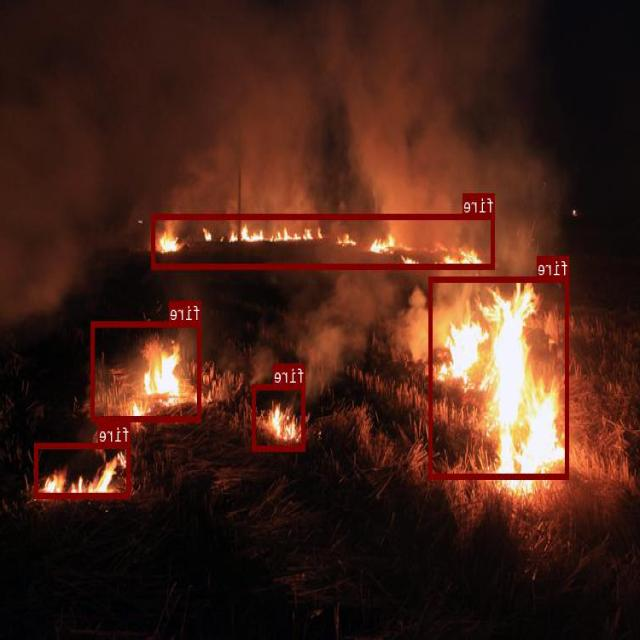fire: (429, 277, 570, 478), (152, 214, 496, 268), (92, 321, 202, 420), (35, 442, 131, 498), (253, 383, 306, 450)
